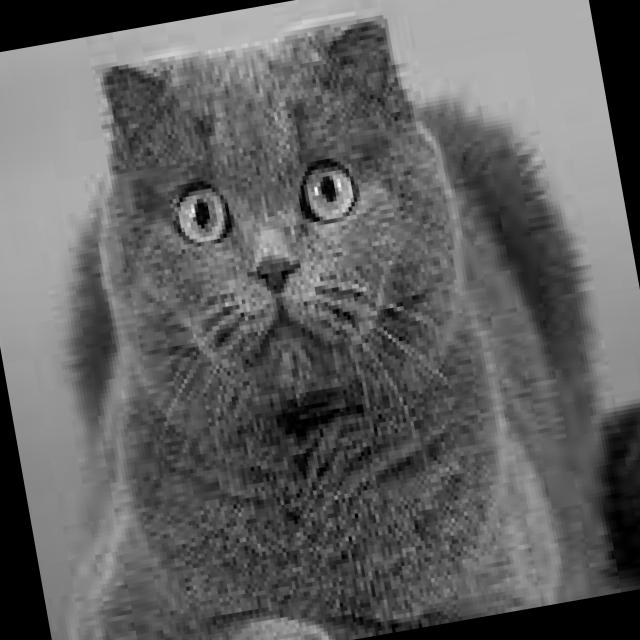scootish: (63, 0, 487, 424)
